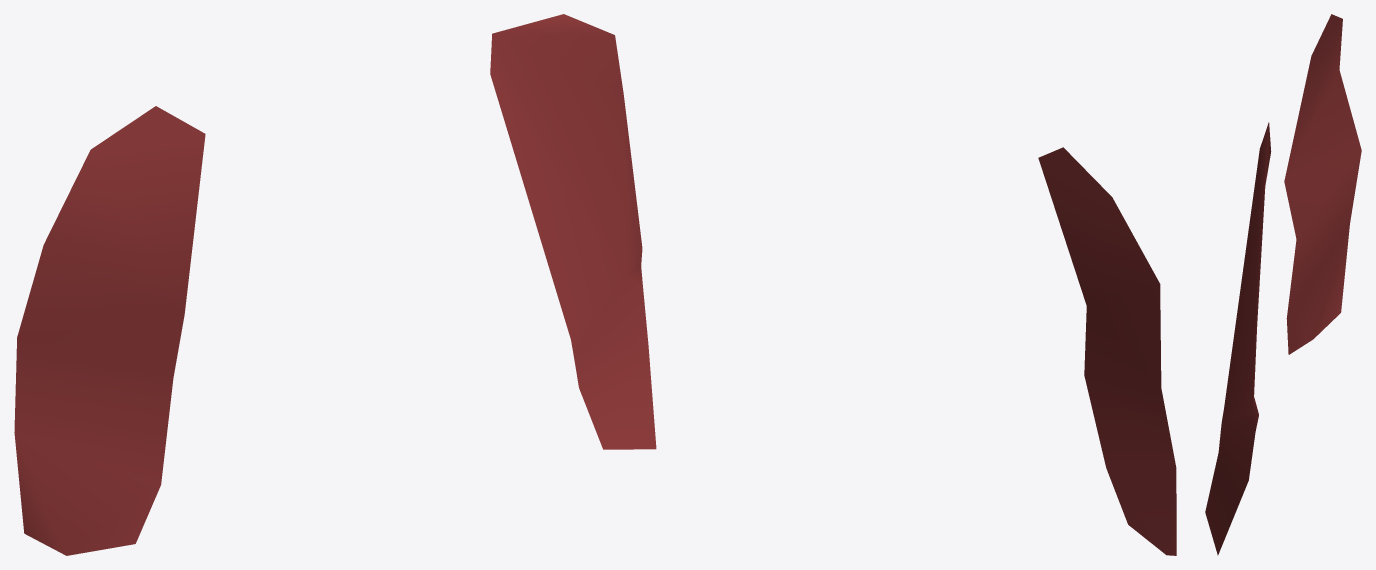
File: flexor-digitorum-superficialis-e1r.glb
3 renders of one model, left to right at view 1: azimuth 30°, elevation 25°; view 2: azimuth 150°, elevation 25°; view 3: azimuth 270°, elevation 25°, orthographic. The views are drawn at different scales.
Visible parts, largest first — view 1: Flexor digitorum superficialis.e1r; view 2: Flexor digitorum superficialis.e1r; view 3: Flexor digitorum superficialis.e1r.
Part boxes in pixels (x1=…): Flexor digitorum superficialis.e1r: x1=14, y1=14, x2=656, y2=555; Flexor digitorum superficialis.e1r: x1=1038, y1=147, x2=1176, y2=555; Flexor digitorum superficialis.e1r: x1=1205, y1=14, x2=1361, y2=555.
Size of the model in its own units: 0.00769 by 0.00566 by 0.00205.
